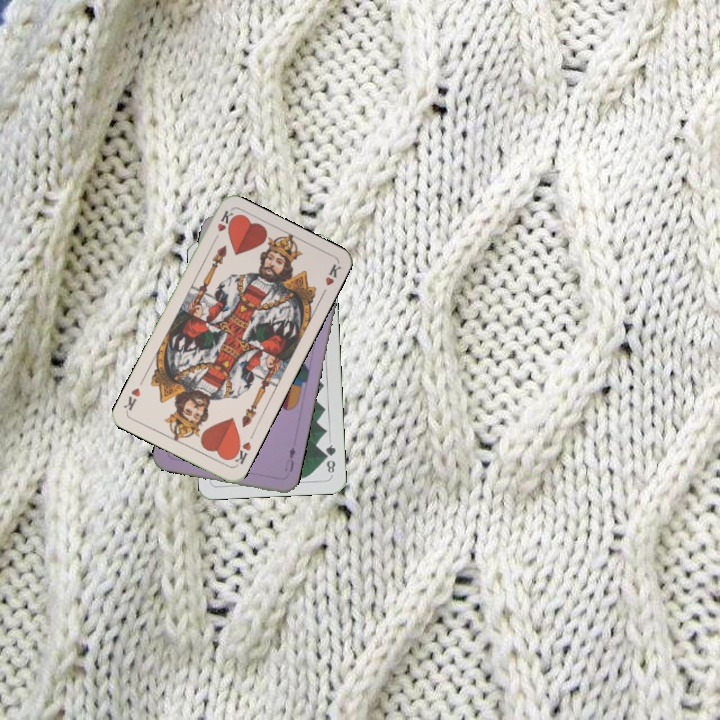EU: (281, 443, 298, 474)
G8: (321, 440, 338, 476)
HK: (209, 206, 236, 245), (227, 437, 254, 468)
